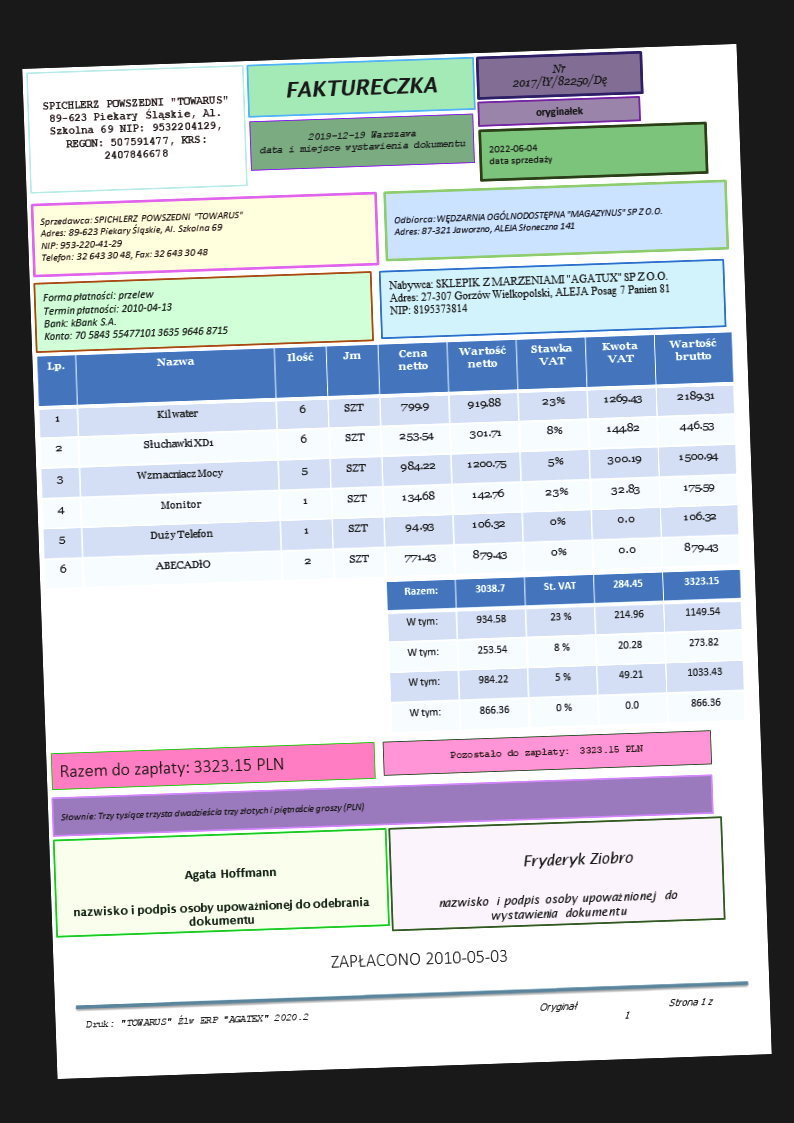Table: (36, 331, 739, 590), (385, 568, 747, 733)
TextBox: (387, 268, 674, 317), (40, 93, 231, 164), (37, 209, 248, 265), (72, 893, 371, 932), (40, 284, 230, 344), (390, 203, 665, 238), (438, 888, 680, 924), (58, 800, 366, 825), (256, 124, 467, 156), (58, 755, 285, 783), (538, 996, 717, 1023), (329, 946, 510, 970), (84, 1011, 310, 1030), (449, 742, 644, 763), (285, 74, 438, 100), (510, 60, 611, 91), (521, 847, 636, 872), (487, 141, 554, 168), (183, 865, 278, 884), (534, 103, 585, 120)
